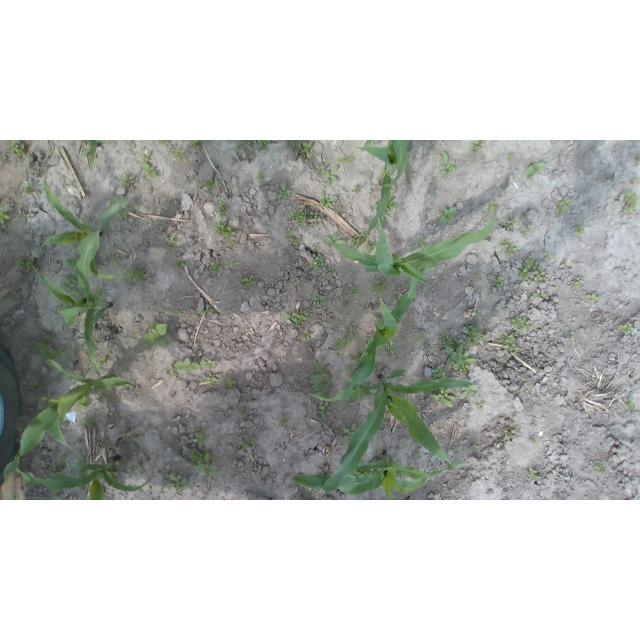Maize: (306, 368, 474, 501), (3, 358, 136, 500), (29, 200, 125, 378), (310, 269, 424, 403), (331, 205, 499, 285), (41, 168, 127, 280), (289, 453, 475, 500), (15, 456, 148, 500), (354, 141, 407, 240), (362, 140, 410, 190), (84, 141, 109, 174)
Weeds: (446, 345, 477, 375), (187, 447, 218, 475), (143, 322, 169, 349), (32, 335, 58, 360), (309, 363, 332, 391), (428, 387, 456, 407), (213, 219, 238, 241), (499, 333, 521, 356), (61, 273, 82, 297), (518, 256, 538, 281), (165, 474, 188, 495), (346, 387, 378, 402), (125, 264, 147, 285), (189, 427, 212, 447), (439, 333, 465, 349), (511, 316, 534, 334), (441, 151, 458, 175), (176, 358, 201, 374), (285, 310, 307, 328), (16, 256, 40, 272), (556, 196, 575, 216), (8, 141, 27, 160), (462, 325, 478, 347), (325, 165, 340, 188), (369, 277, 387, 296), (319, 190, 338, 208), (623, 191, 640, 211), (353, 466, 381, 478), (526, 163, 547, 178), (289, 209, 307, 226), (439, 207, 457, 224), (171, 145, 188, 163), (0, 206, 10, 236), (343, 421, 358, 441), (325, 233, 346, 247), (215, 199, 230, 218), (118, 173, 135, 189), (351, 232, 368, 248), (311, 253, 326, 271), (276, 181, 291, 199), (460, 385, 479, 399), (141, 163, 157, 179), (332, 338, 348, 354), (319, 401, 332, 420), (21, 180, 36, 196), (40, 393, 56, 408), (299, 142, 314, 158), (240, 274, 257, 288), (526, 468, 543, 482), (618, 320, 635, 334), (384, 196, 398, 213), (75, 395, 89, 411), (412, 235, 428, 249), (470, 141, 484, 156), (95, 283, 107, 300), (311, 294, 328, 306), (475, 396, 486, 414), (48, 464, 63, 477), (519, 224, 534, 237), (117, 202, 128, 219), (432, 366, 446, 379), (506, 219, 519, 233), (486, 199, 499, 213), (257, 140, 272, 152), (200, 359, 217, 369), (205, 374, 218, 387), (203, 176, 216, 189), (504, 427, 516, 441), (534, 271, 548, 282), (385, 340, 395, 355), (316, 390, 328, 402), (366, 240, 378, 252), (210, 261, 222, 273), (189, 141, 205, 150), (168, 234, 177, 250), (223, 378, 237, 388), (585, 293, 599, 303), (338, 156, 355, 164), (107, 198, 119, 209), (201, 304, 213, 315), (624, 399, 636, 410), (507, 243, 517, 256), (379, 213, 389, 226), (533, 289, 547, 298), (141, 151, 152, 162), (99, 356, 110, 367), (59, 347, 70, 358), (30, 380, 41, 391), (229, 256, 240, 267), (277, 417, 288, 428), (572, 277, 583, 288), (493, 278, 504, 289), (109, 467, 120, 478), (59, 453, 69, 464), (595, 463, 606, 473), (176, 259, 187, 269), (328, 264, 336, 277), (353, 351, 363, 361), (362, 334, 372, 344), (567, 331, 577, 341), (575, 225, 585, 235), (316, 165, 325, 176), (85, 418, 95, 427), (77, 456, 87, 465), (349, 286, 359, 295), (418, 331, 427, 341), (499, 239, 509, 248), (311, 244, 321, 253), (302, 331, 310, 342), (423, 342, 432, 351), (530, 437, 539, 446), (82, 147, 90, 157), (172, 369, 179, 380), (629, 177, 640, 184), (130, 464, 139, 472), (310, 211, 319, 219), (606, 172, 614, 181), (241, 442, 249, 451), (352, 186, 361, 194), (263, 222, 272, 230), (234, 145, 244, 152), (293, 235, 300, 245), (346, 333, 354, 341), (175, 310, 184, 317), (479, 335, 488, 342), (228, 242, 237, 249), (285, 229, 294, 236), (1, 154, 8, 162), (345, 367, 353, 374), (375, 317, 383, 324), (469, 317, 476, 325), (476, 310, 483, 318), (525, 378, 532, 386), (290, 141, 301, 146), (307, 309, 313, 318), (636, 152, 640, 165), (251, 439, 258, 446), (410, 335, 417, 342), (473, 443, 480, 450), (545, 253, 552, 260), (258, 173, 265, 180), (131, 203, 140, 208), (15, 214, 21, 221), (132, 449, 138, 456), (604, 376, 611, 382), (527, 297, 533, 304), (15, 287, 22, 293), (380, 170, 386, 177), (133, 330, 139, 337), (348, 325, 354, 331), (507, 154, 513, 160), (17, 295, 23, 301), (39, 406, 46, 411), (166, 369, 171, 376), (478, 271, 482, 279), (114, 414, 120, 419), (114, 393, 119, 399), (159, 141, 169, 144), (504, 359, 509, 365), (606, 317, 611, 322), (34, 172, 39, 177), (517, 389, 522, 394), (337, 209, 341, 215), (343, 303, 349, 307), (287, 238, 293, 242), (438, 490, 444, 494), (171, 363, 175, 368), (465, 377, 470, 381), (564, 260, 568, 265), (374, 204, 378, 209), (80, 141, 86, 144), (373, 459, 379, 462), (22, 219, 26, 223), (500, 222, 504, 226)
